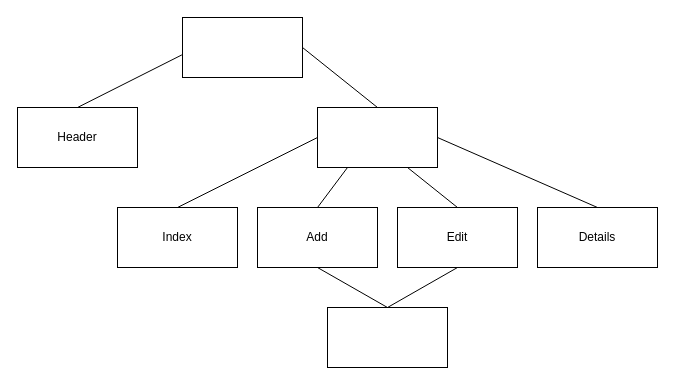
Some shapes in this 675 by 385 pixel diagram are drawn without their labels. Each missing label, with the centre of its shape:
App.js: point (242, 47)
Form: point (387, 337)
Tap Control: point (377, 137)
